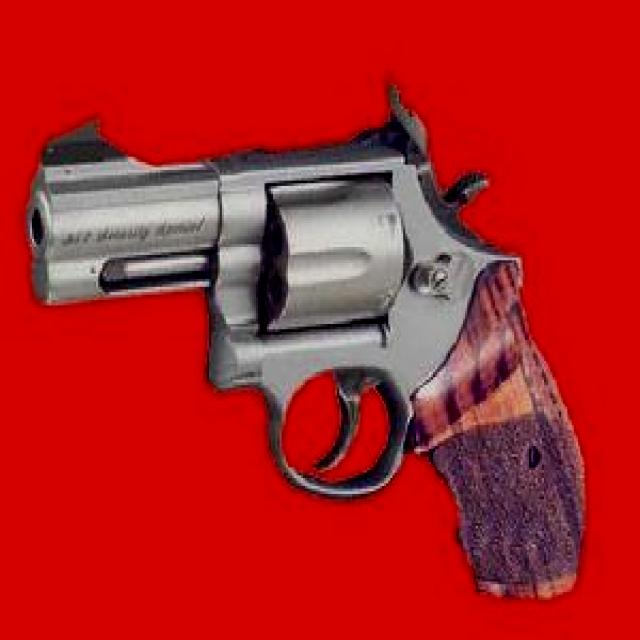pistol: (28, 117, 593, 603)
